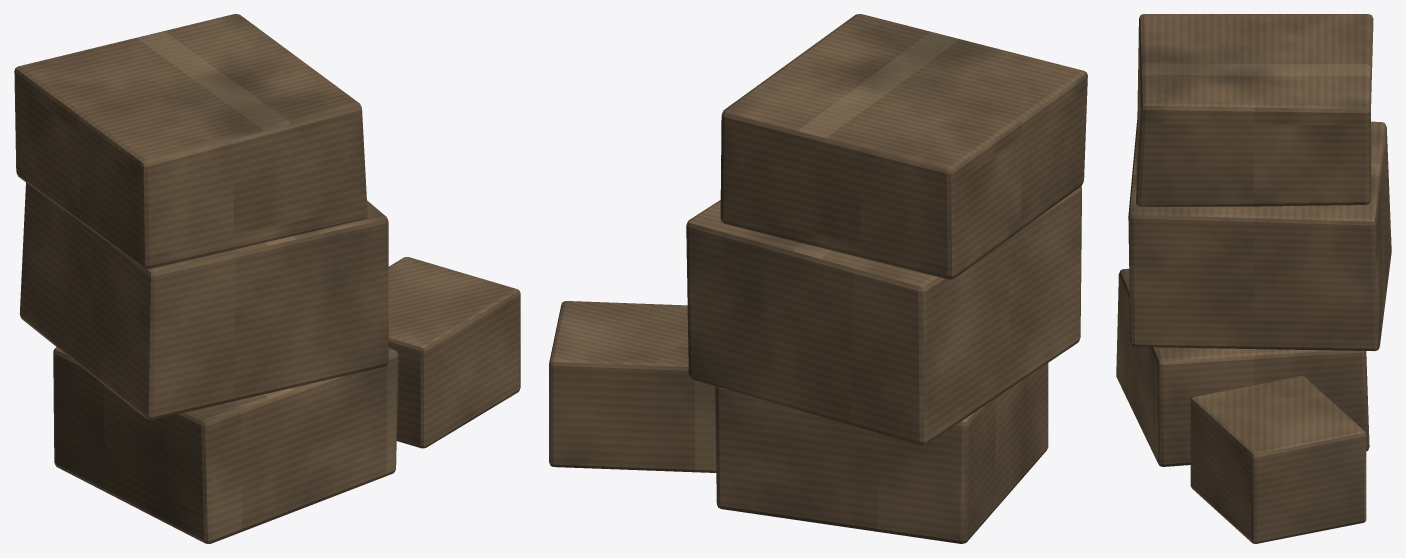
Rendered from F07_cardboard_box_stack_v3.glb.
3 renders of one model, left to right at view 1: azimuth 30°, elevation 25°; view 2: azimuth 150°, elevation 25°; view 3: azimuth 270°, elevation 25°, orthographic. The views are drawn at different scales.
Parts seen in each view (by area): view 1: F07_cardboard_box_stack_v3; view 2: F07_cardboard_box_stack_v3; view 3: F07_cardboard_box_stack_v3.
Boxes of the visible parts, x1,y1,x2,y2 form: F07_cardboard_box_stack_v3: (14,14,520,543); F07_cardboard_box_stack_v3: (549,14,1087,543); F07_cardboard_box_stack_v3: (1116,14,1391,543).
Size of the model in its own units: 1 by 0.8453 by 0.607.
2 materials, 2 textured.
